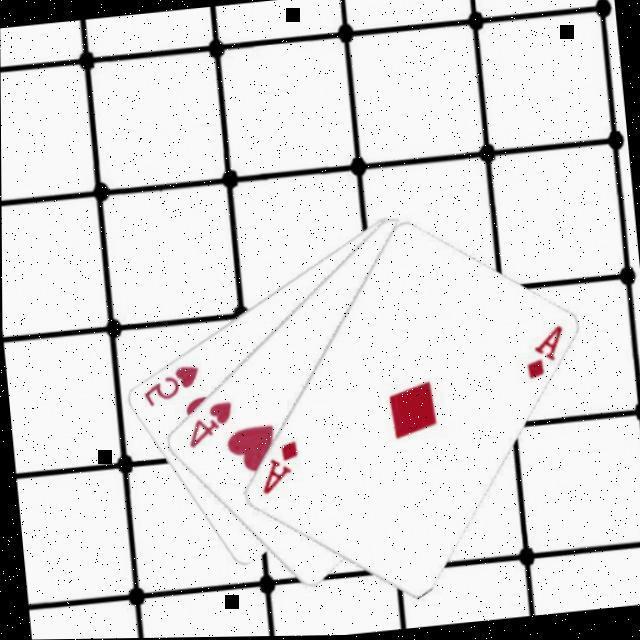4H: (182, 398, 238, 452)
5H: (138, 361, 204, 411)
AD: (520, 322, 571, 384), (254, 438, 304, 500)
